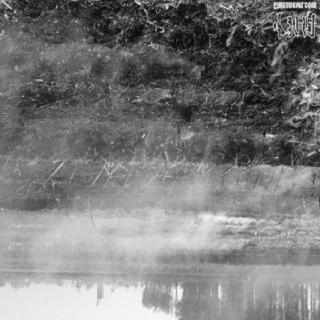Smoke: (124, 216, 164, 256)
